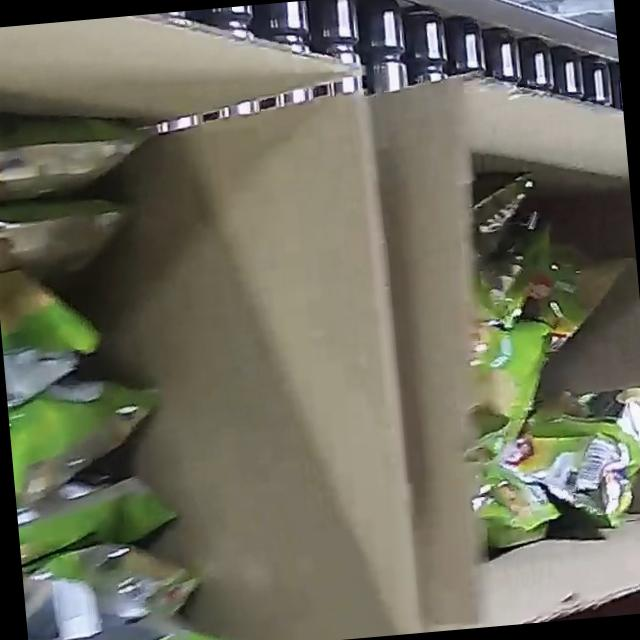yogurt: (0, 86, 262, 640), (441, 164, 640, 551)
